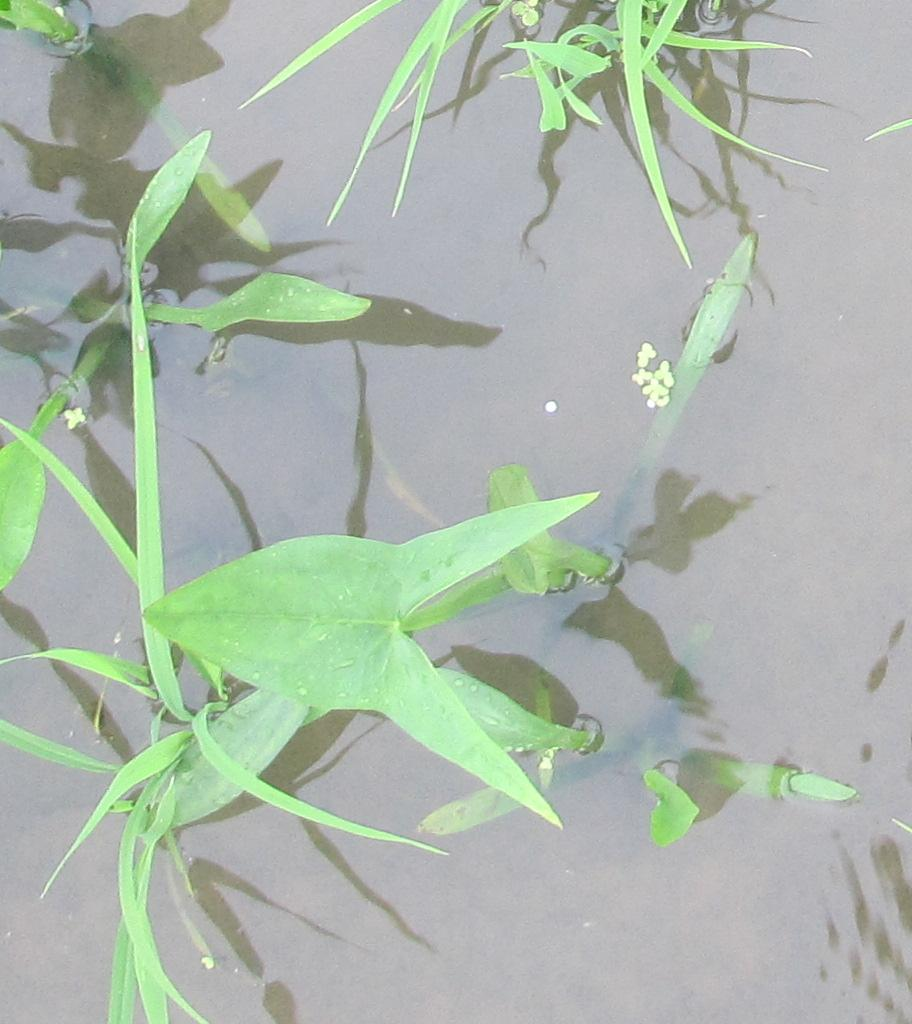Weed: (150, 533, 569, 775), (125, 136, 380, 353)
